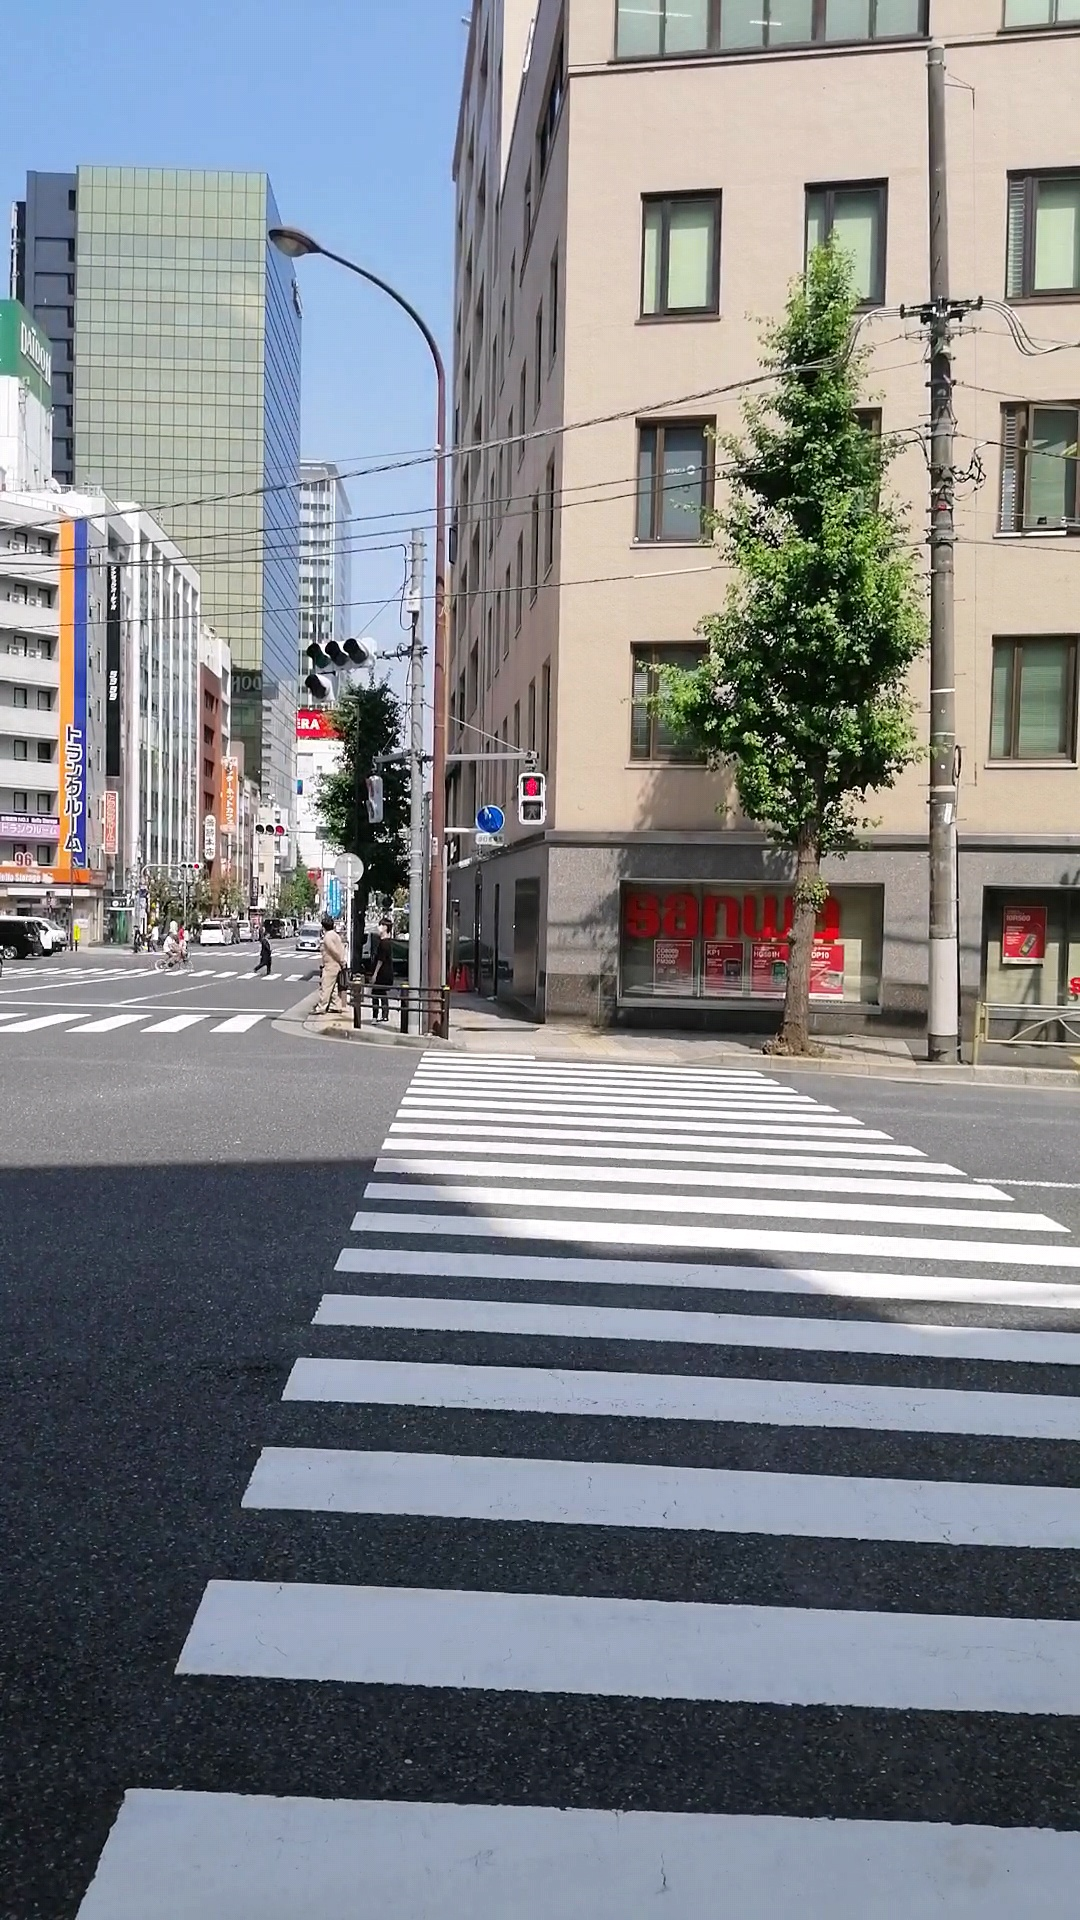red: (517, 771, 549, 824)
